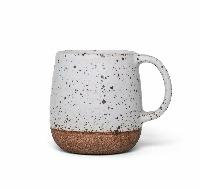cup: (47, 43, 171, 156)
